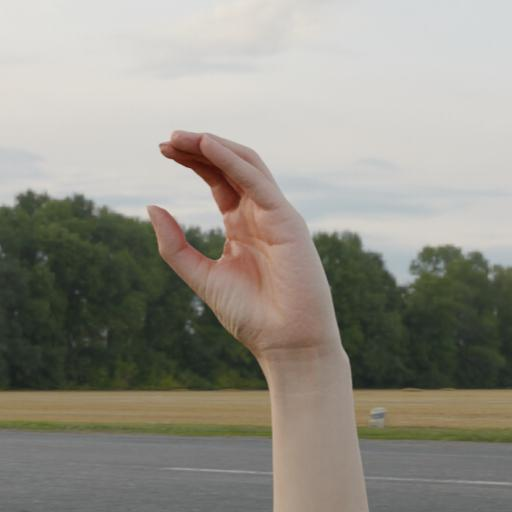C: (142, 126, 370, 512)
